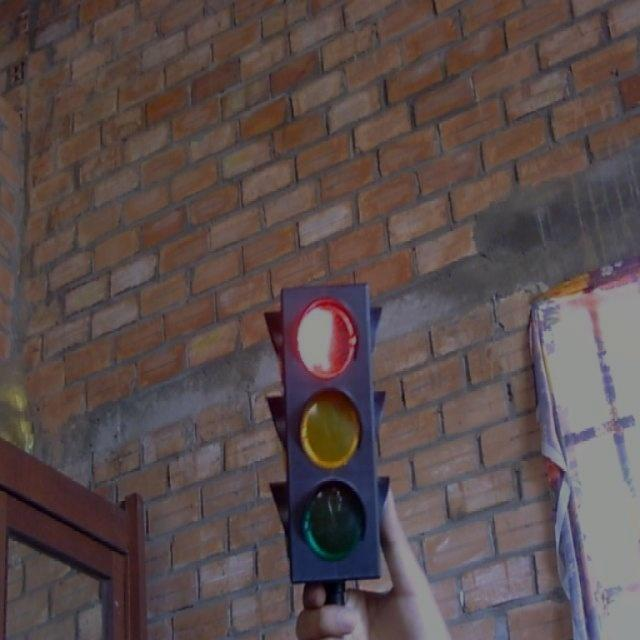Red: (257, 272, 402, 586)
